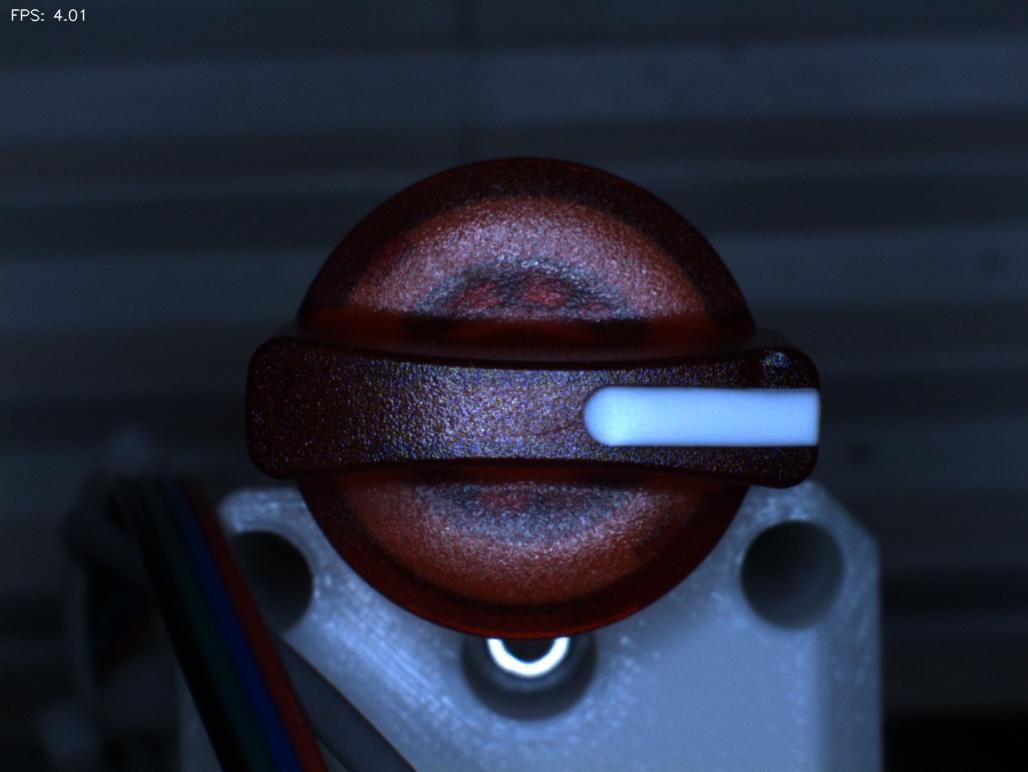Choc: (729, 322, 817, 407)
